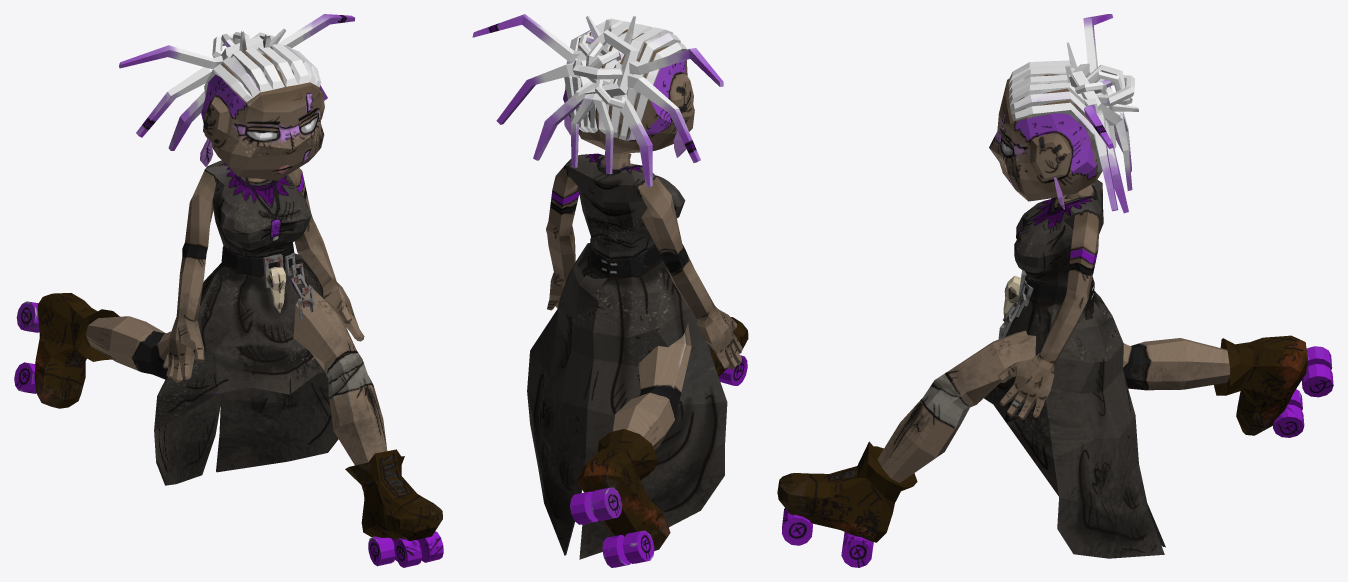
Rendered from bruja_000001.obj.
3 renders of one model, left to right at view 1: azimuth 30°, elevation 25°; view 2: azimuth 150°, elevation 25°; view 3: azimuth 270°, elevation 25°, orthographic. The views are drawn at different scales.
Visible parts, largest first — view 1: Bruja_Plane.001; view 2: Bruja_Plane.001; view 3: Bruja_Plane.001.
Boxes of the visible parts, x1=… form: Bruja_Plane.001: x1=14, y1=14, x2=443, y2=567; Bruja_Plane.001: x1=472, y1=14, x2=748, y2=567; Bruja_Plane.001: x1=777, y1=14, x2=1333, y2=567.
Bounding box in the file's own units: 7.98 × 14.52 × 14.58.
